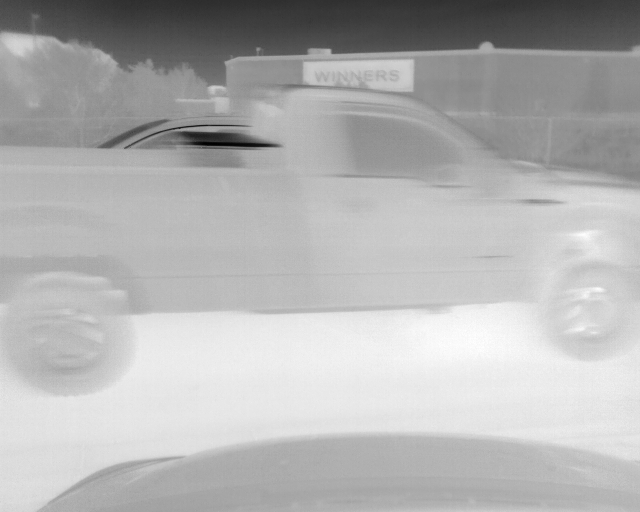car: (3, 83, 640, 400)
